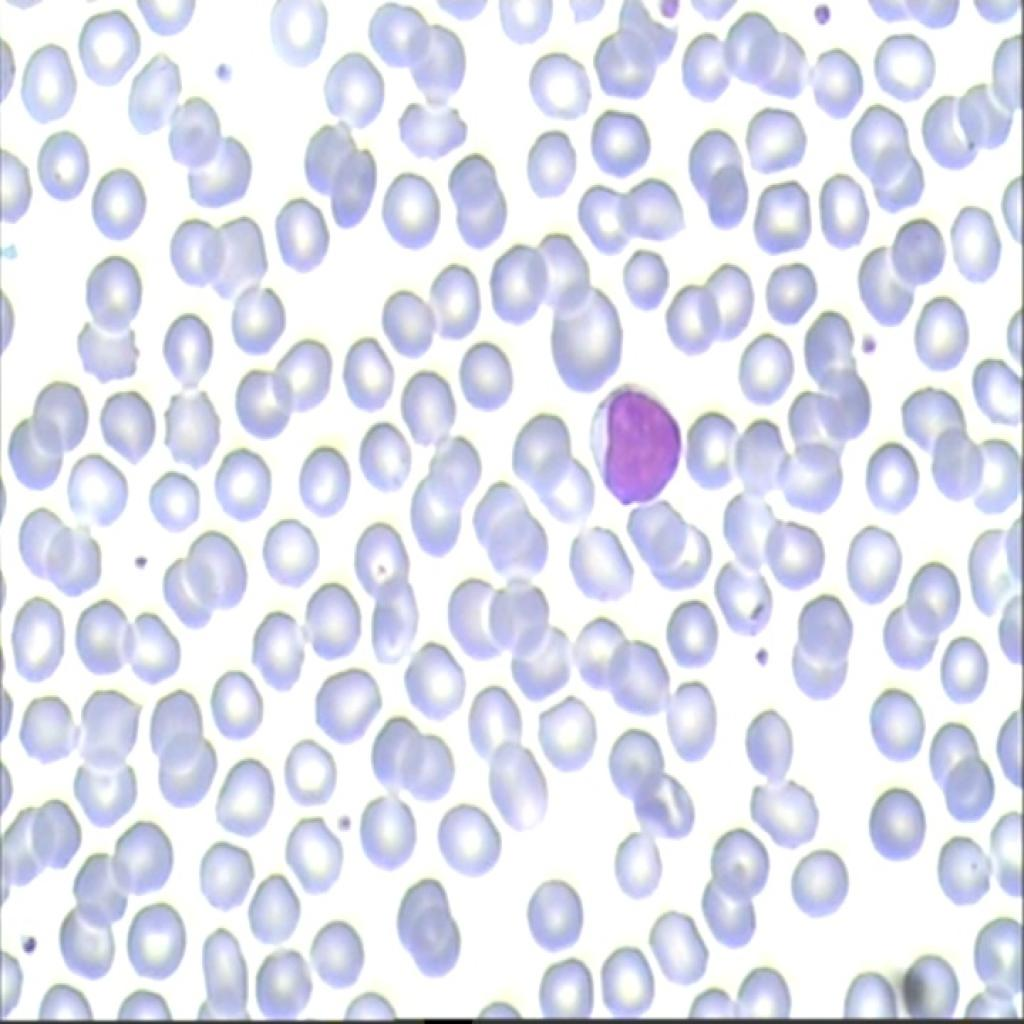Limfosit: (566, 356, 688, 512)
Platelet: (202, 44, 240, 100), (750, 626, 786, 679), (124, 540, 158, 585), (856, 325, 886, 363), (806, 0, 844, 30), (642, 0, 684, 27), (334, 800, 363, 839), (14, 924, 38, 960)
